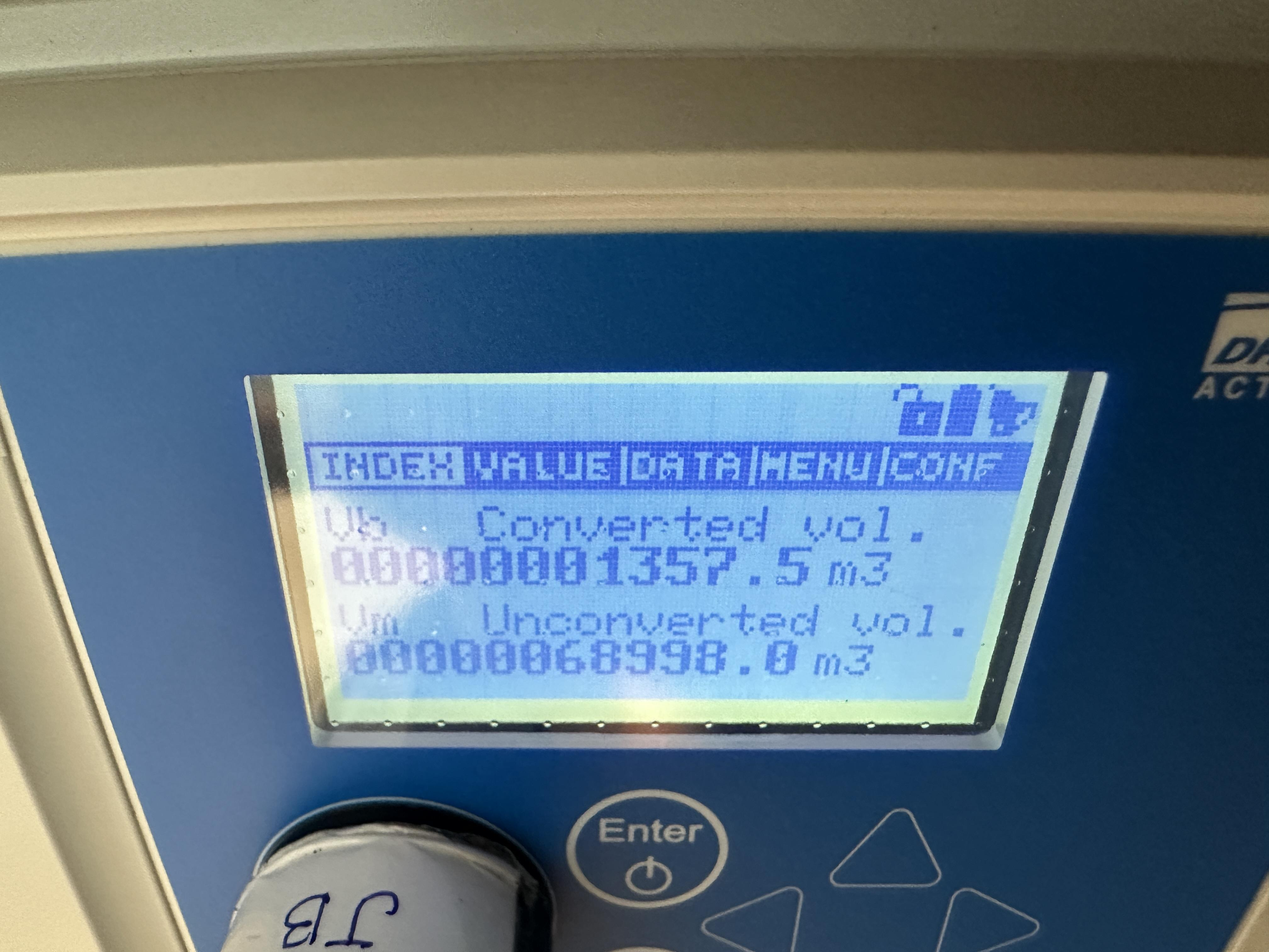digital_screen: (272, 371, 1071, 727)
